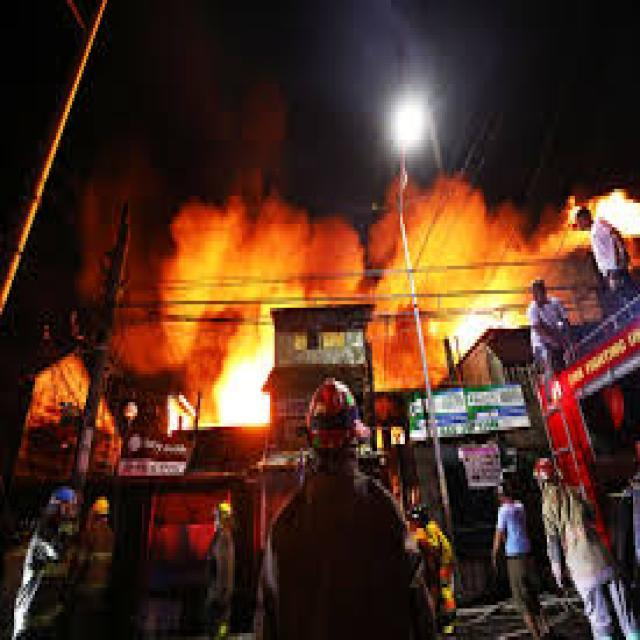Fire: (226, 358, 270, 441), (452, 314, 527, 340)
Smoke: (84, 142, 572, 294)
